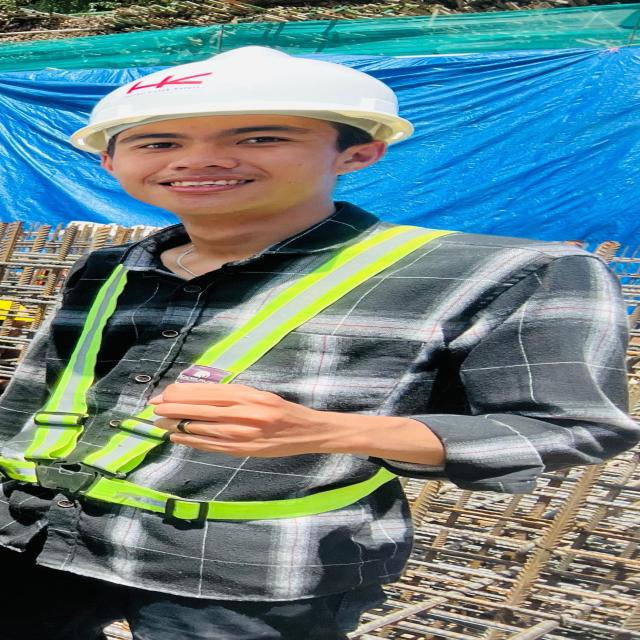safetyhelmet: (52, 48, 430, 225)
